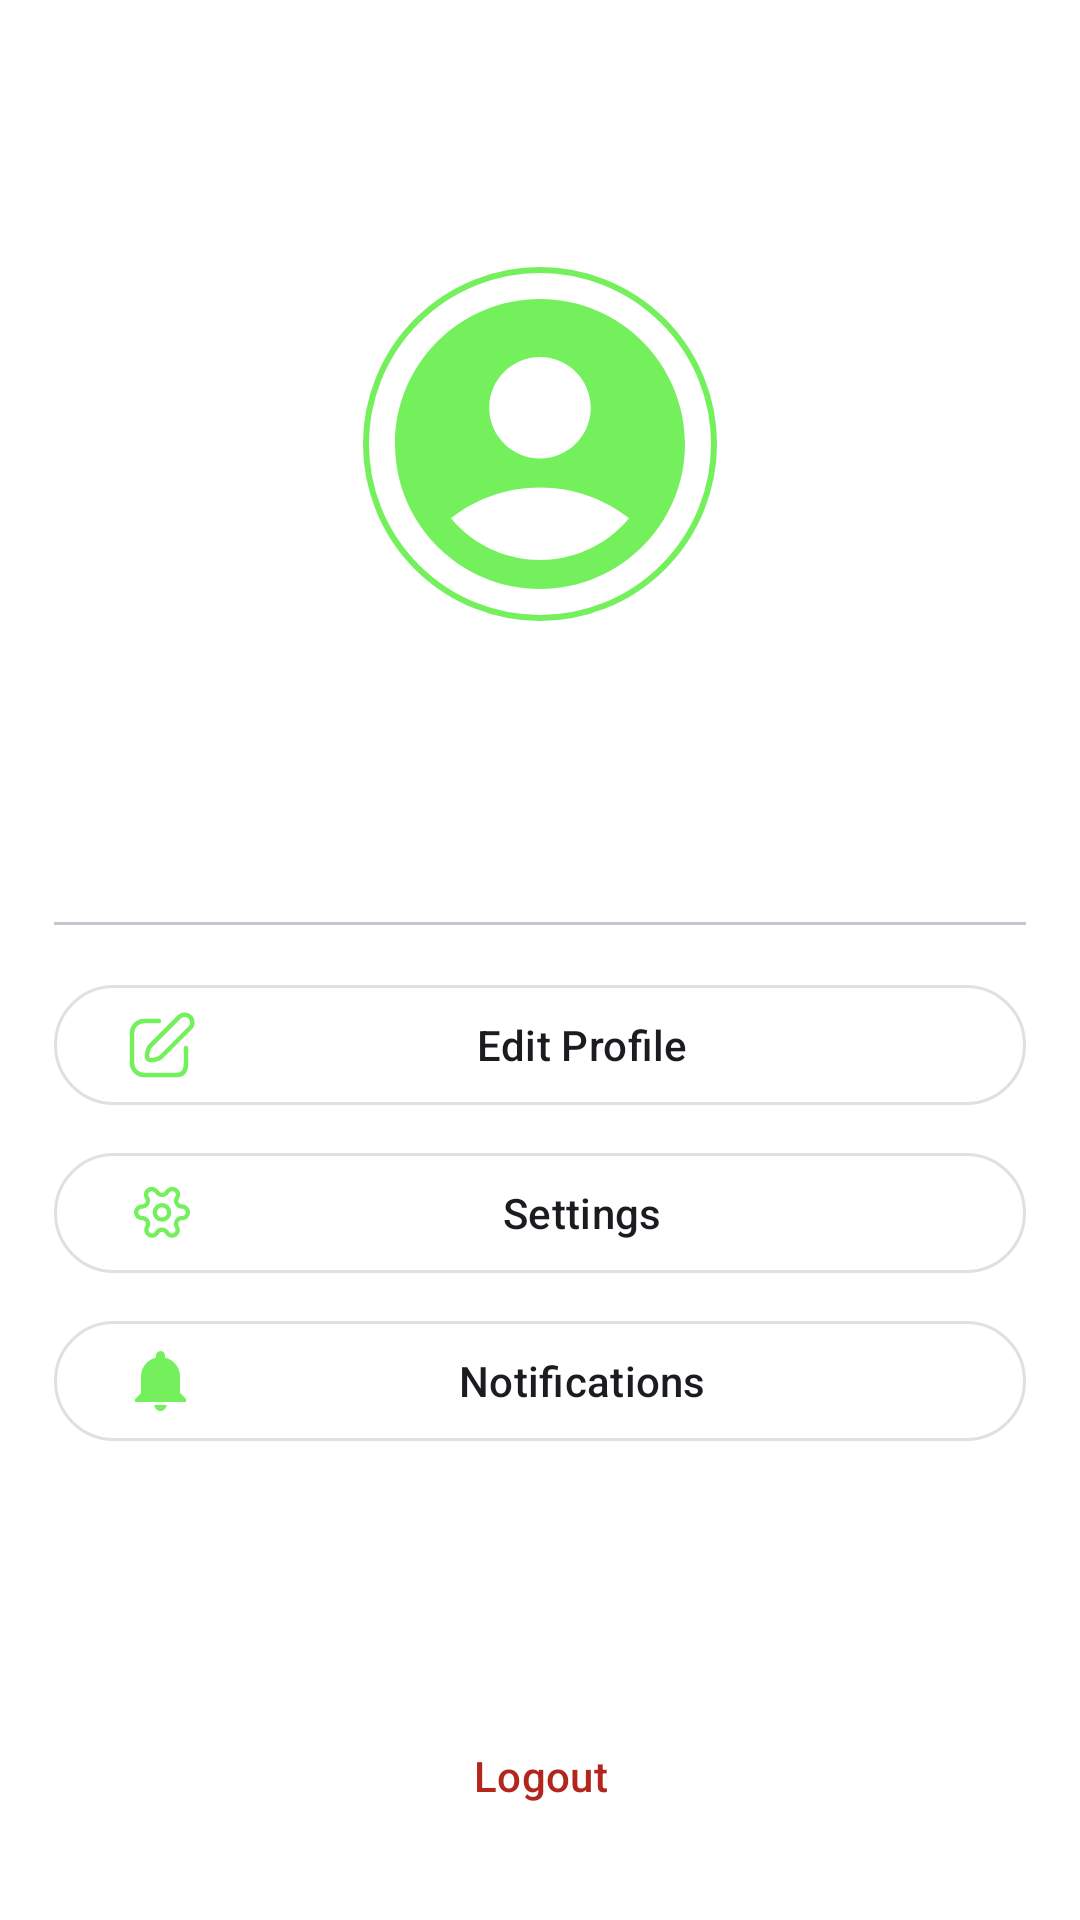

Screen size 1080px×1920px. Icon name, then its box in pixels as box(x1, y1, x2, y2):
Profile Picture: box(363, 267, 717, 621)
